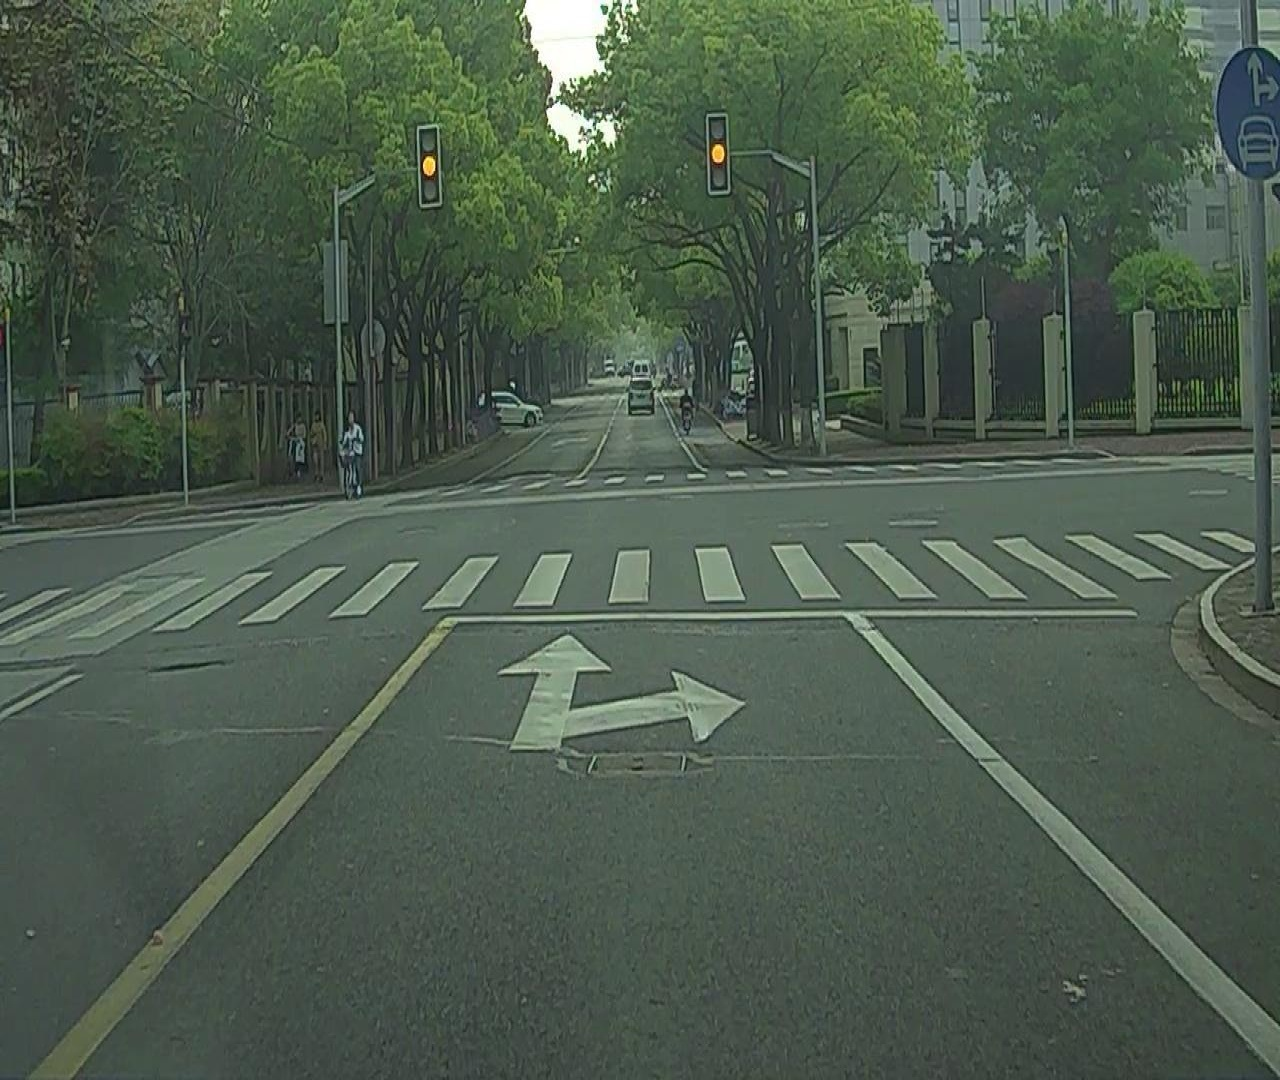yellow: (418, 129, 440, 207), (707, 118, 728, 193)
